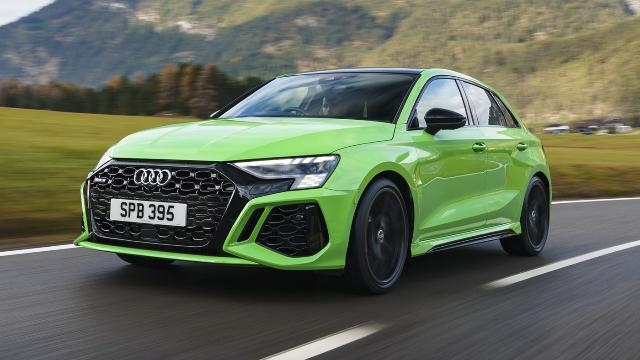audi: (72, 67, 552, 295)
